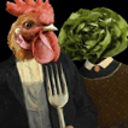Fork: (37, 60, 76, 128)
